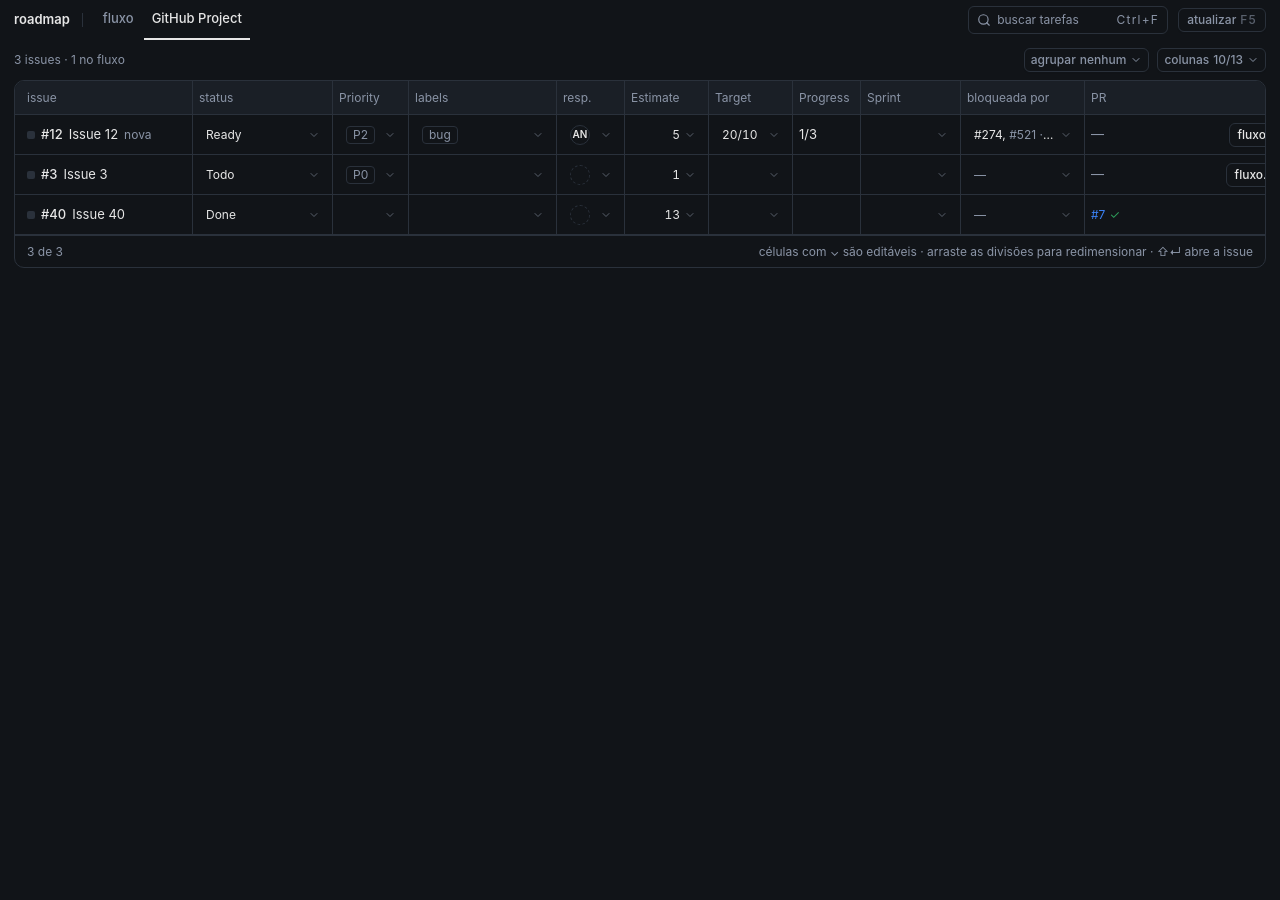
the popover's add row has the field focused and no kind select; a typed #99 posts an add, the row shows the answer, the field empties and the popover stays (#61
Check: the text "3 de 3" is shown, box [27,244,63,260]
Click the button with aria-label "editar bloqueada por" at (1023, 134), box [967,122,1079,146]
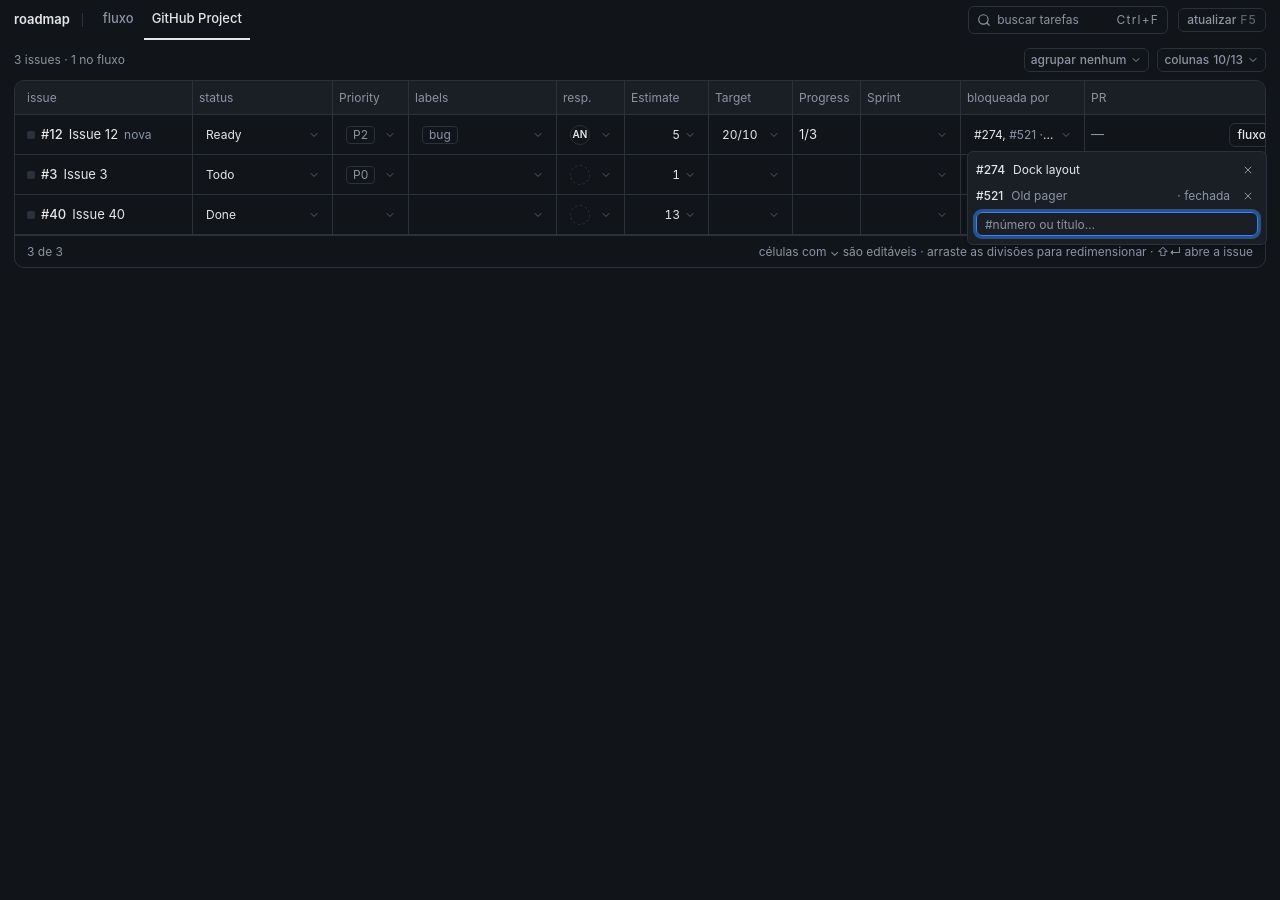
Type keys "#99{Enter}"
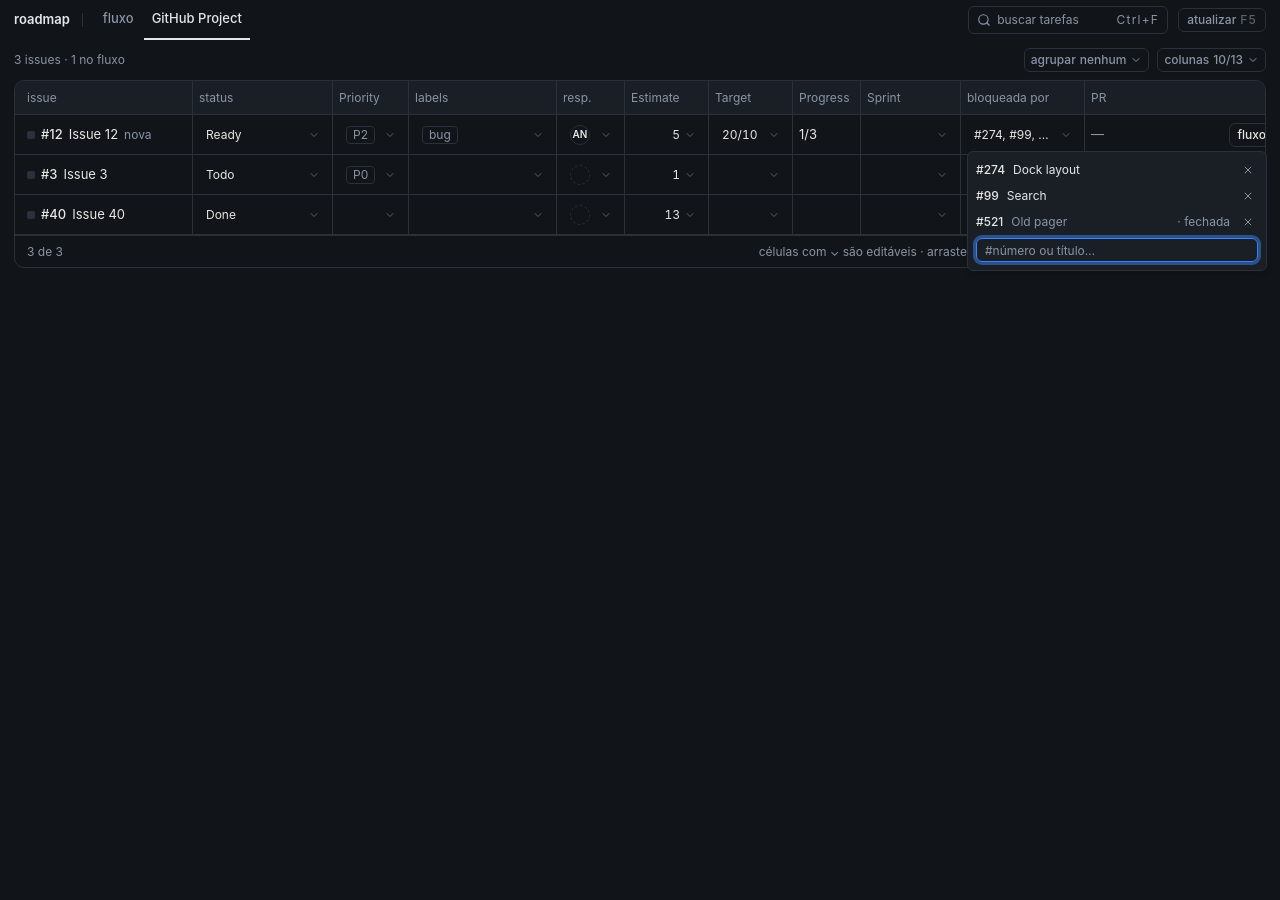
Check: the dropdown labelled "#número ou título…" is empty, box [976,238,1258,262]
Check: the dialog named "bloqueada por" is shown, box [967,151,1267,271]
Check: the button with aria-label "editar bloqueada por" reads "#274, #99, #521 · fechada", box [967,122,1079,146]
